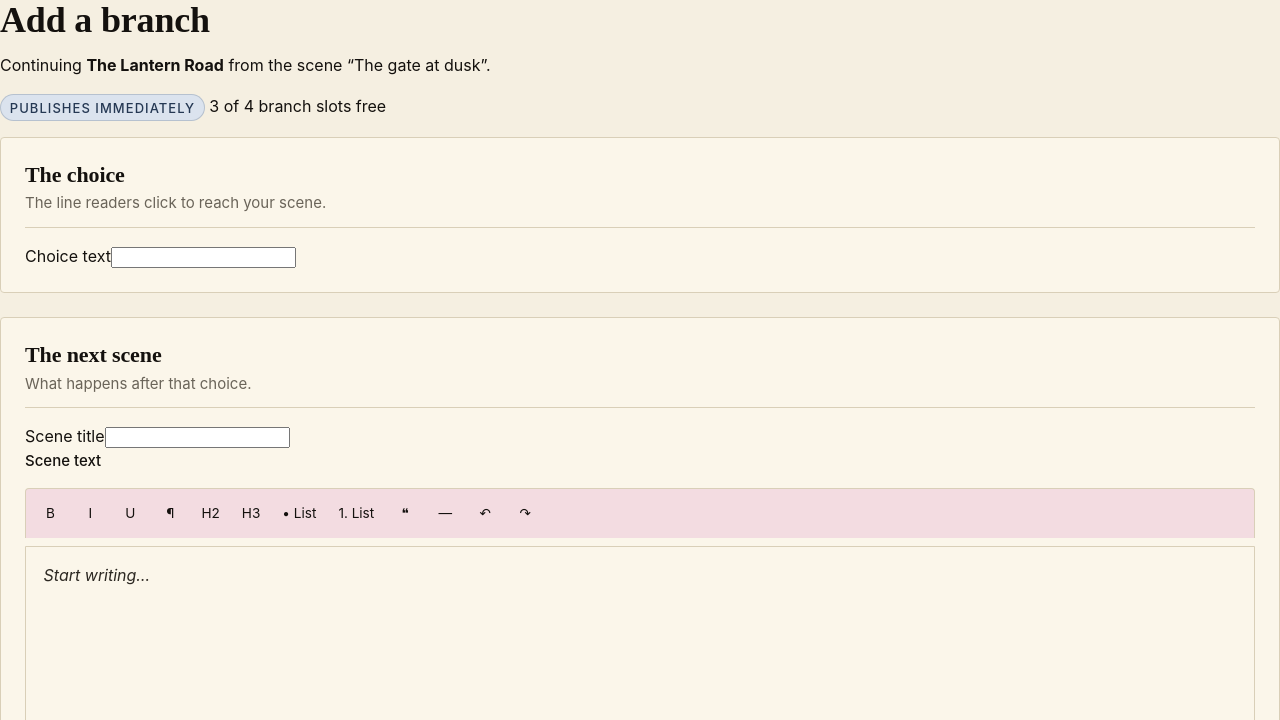
Scenario: branch submission — autosave › saves the draft to this browser as it is typed
Type "Follow the lantern north" into the field labelled "Choice text" at coordinates (203, 257), box [111,247,296,268]
(page scrolled)
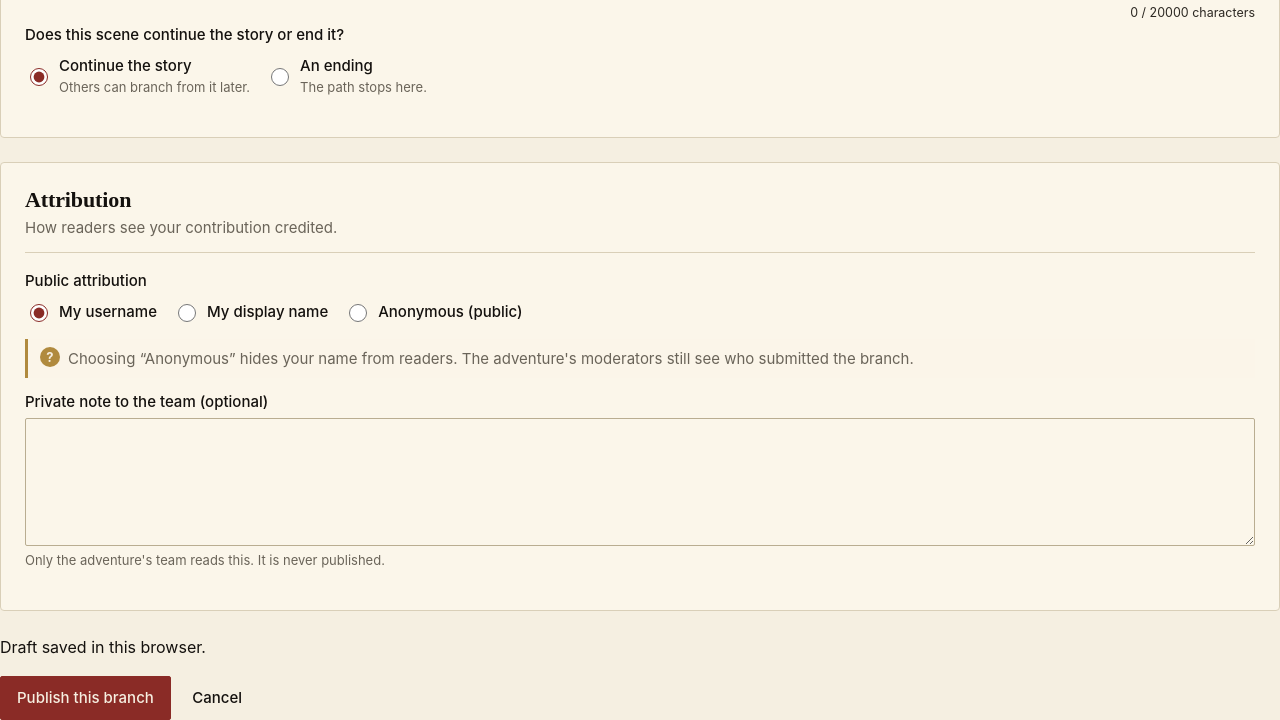
Check: the text with test id "branch-autosave" reads "Draft saved in this browser.", box [0,637,206,657]
